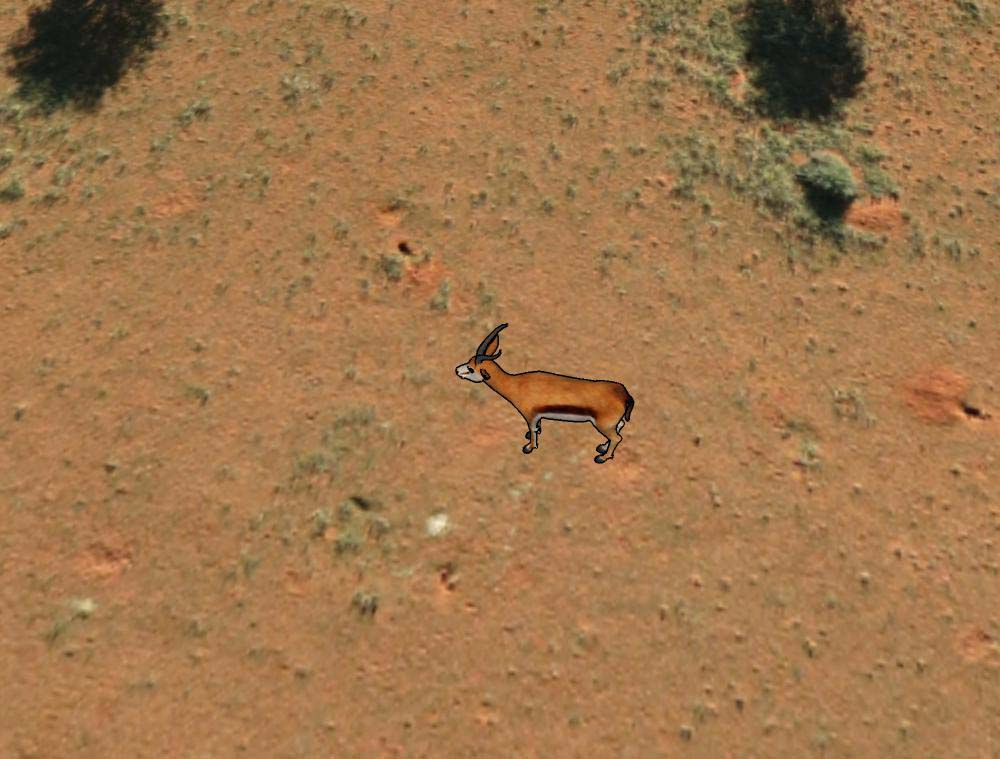springbok: (455, 318, 635, 466)
